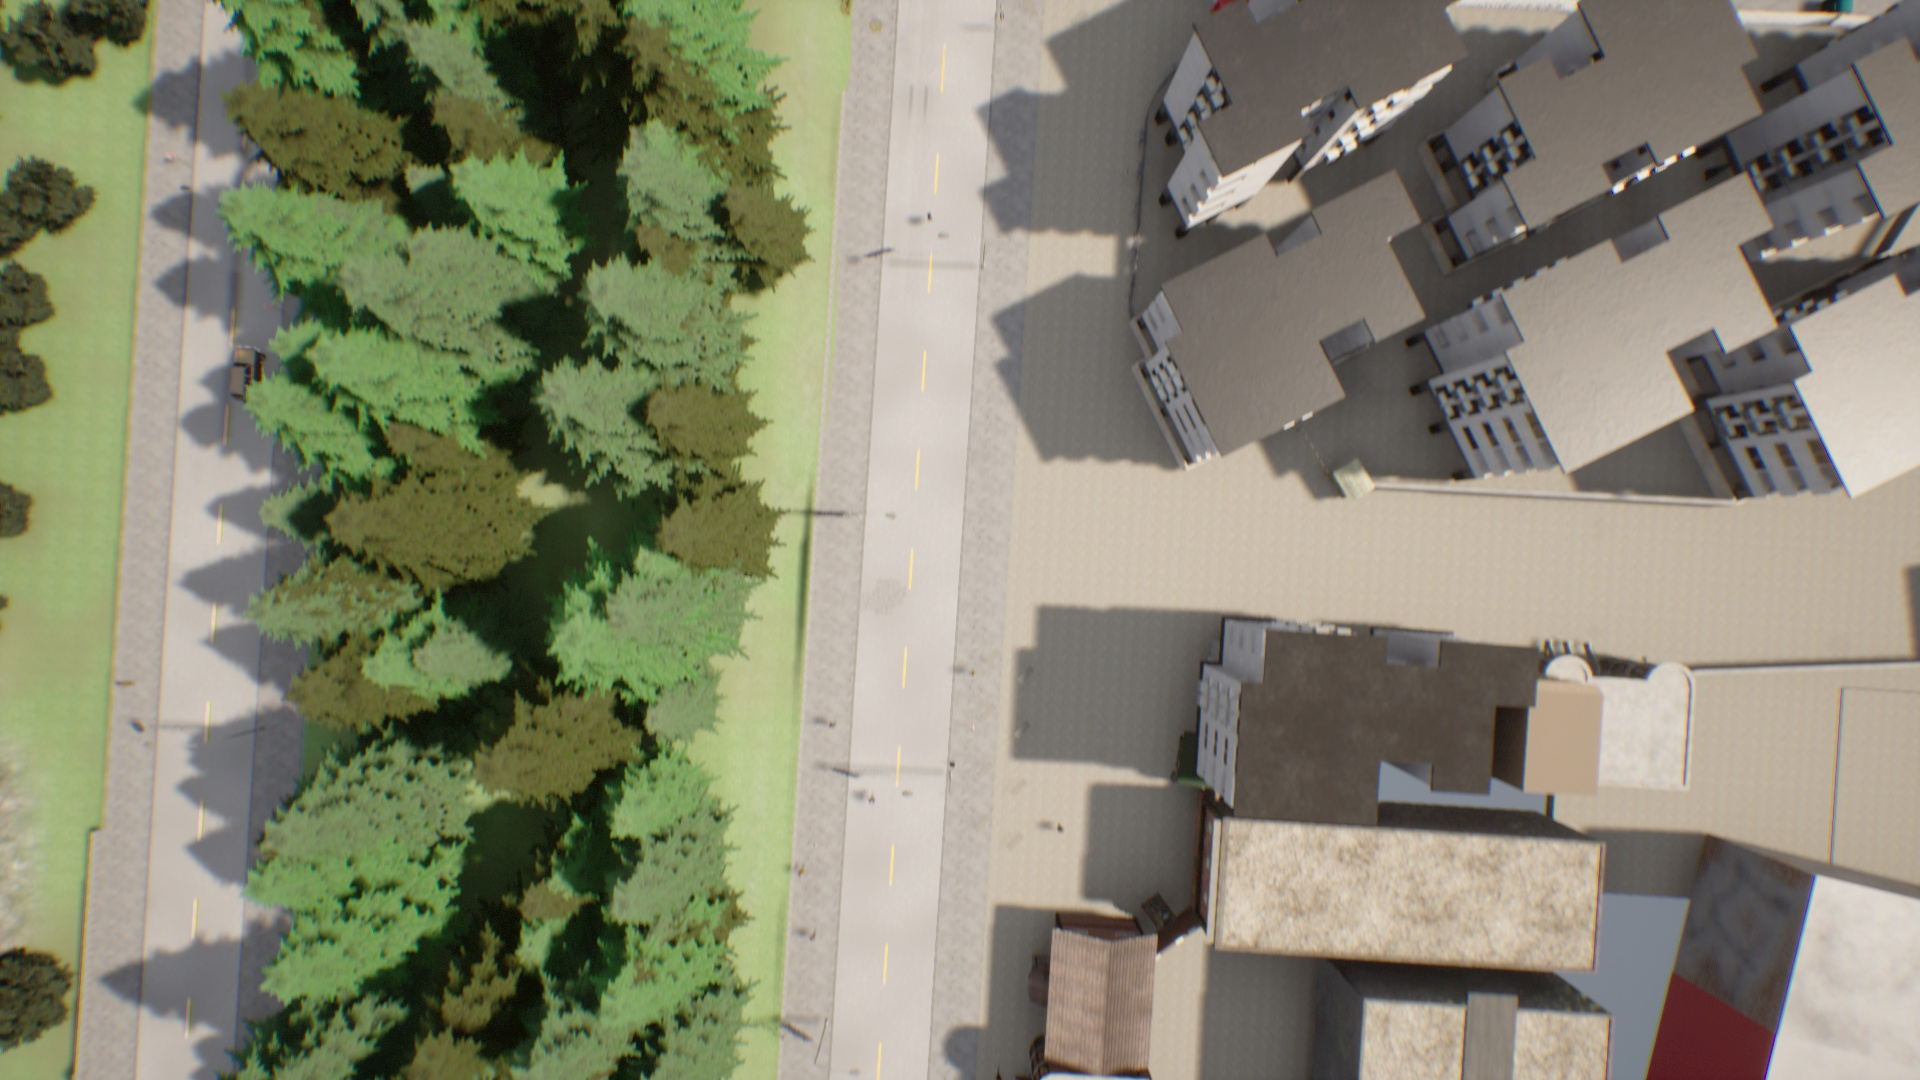Car: (228, 347, 270, 411)
